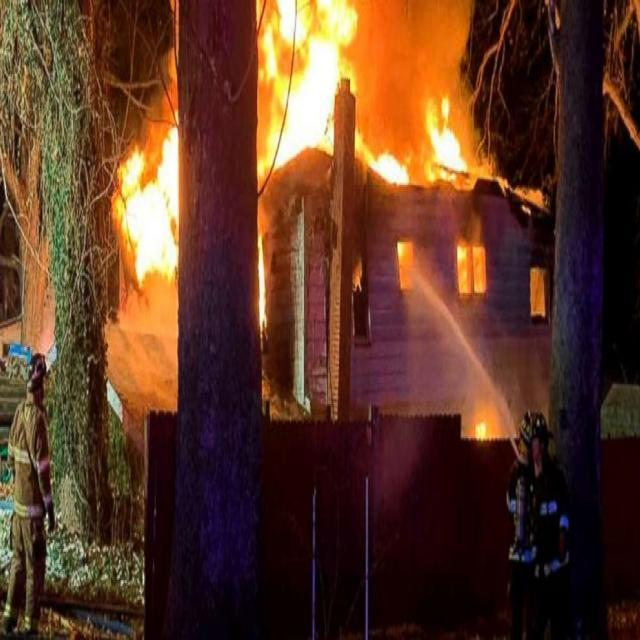Fire: (260, 6, 360, 162), (116, 119, 182, 273), (408, 92, 462, 188), (368, 116, 408, 210)
Smoke: (359, 0, 476, 100), (106, 272, 178, 401)
